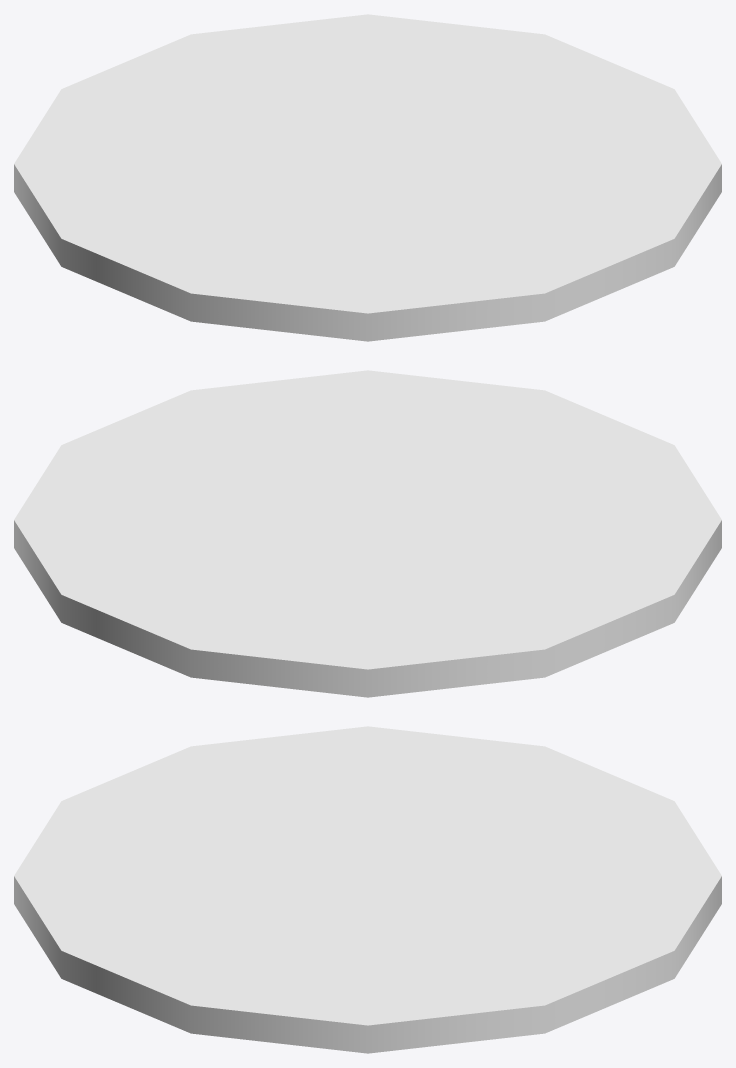
Rendered from Stage_floor.fbx.
3 views of the same model, one above another, from view 1: azimuth 30°, elevation 25°; view 2: azimuth 150°, elevation 25°; view 3: azimuth 270°, elevation 25° (orthographic).
Parts seen in each view (by area): view 1: polySurface18; view 2: polySurface18; view 3: polySurface18.
Boxes of the visible parts, x1,y1,x2,y2 form: polySurface18: (14, 14, 721, 341); polySurface18: (14, 370, 721, 697); polySurface18: (14, 726, 721, 1053).
Bounding box in the file's own units: 0.1593 × 0.00697 × 0.1593.
1 material, 1 textured.
